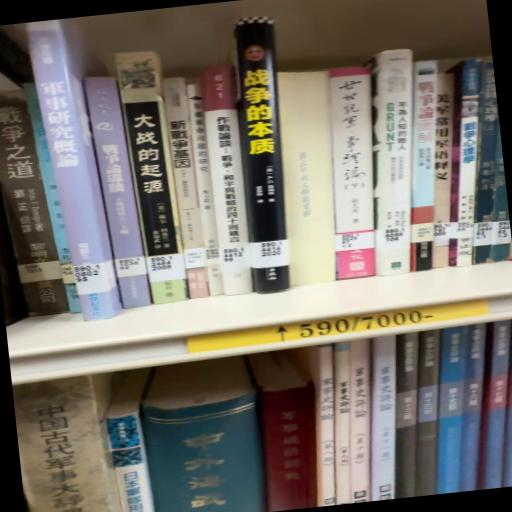backward: (273, 74, 352, 291)
book: (21, 18, 121, 323), (227, 19, 301, 293), (352, 56, 433, 282), (1, 86, 69, 325), (86, 71, 152, 315), (317, 68, 390, 285)
